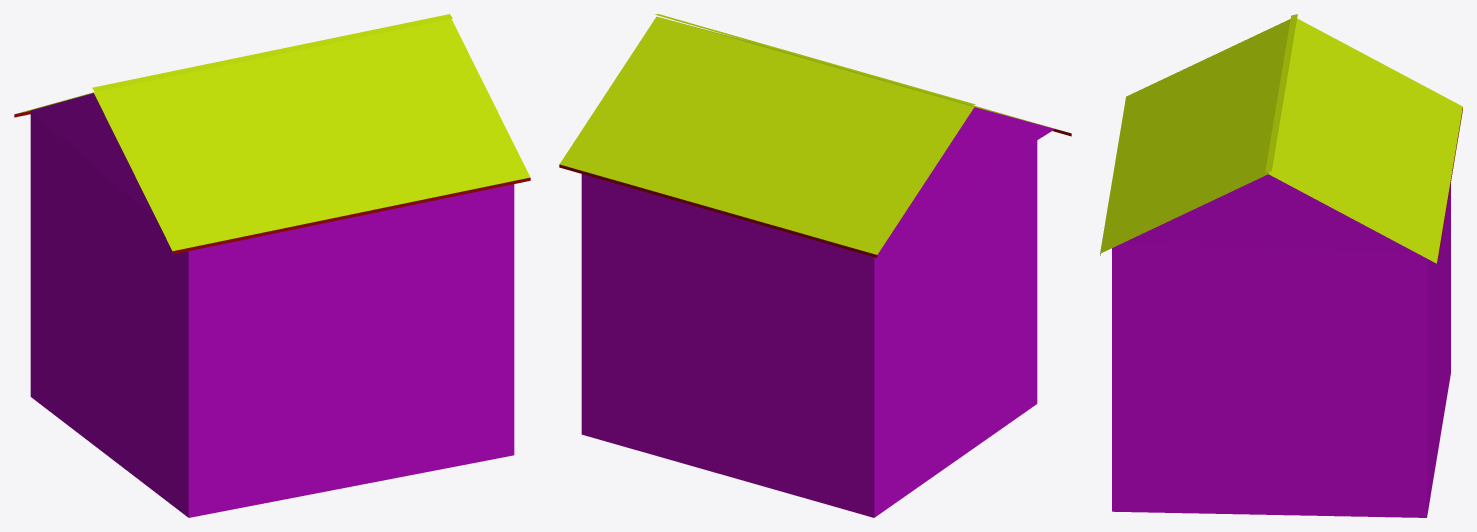
Rendered from bgj_379.glb.
3 views of the same model, side by side, from view 1: azimuth 30°, elevation 25°; view 2: azimuth 150°, elevation 25°; view 3: azimuth 270°, elevation 25° (orthographic). The views are drawn at different scales.
Visible parts, largest first — view 1: bgj_379; view 2: bgj_379; view 3: bgj_379.
Boxes of the visible parts, x1,y1,x2,y2 form: bgj_379: [14, 14, 530, 517]; bgj_379: [559, 14, 1071, 517]; bgj_379: [1100, 14, 1462, 517].
Bounding box in the file's own units: 14.07 × 13.73 × 12.9.
